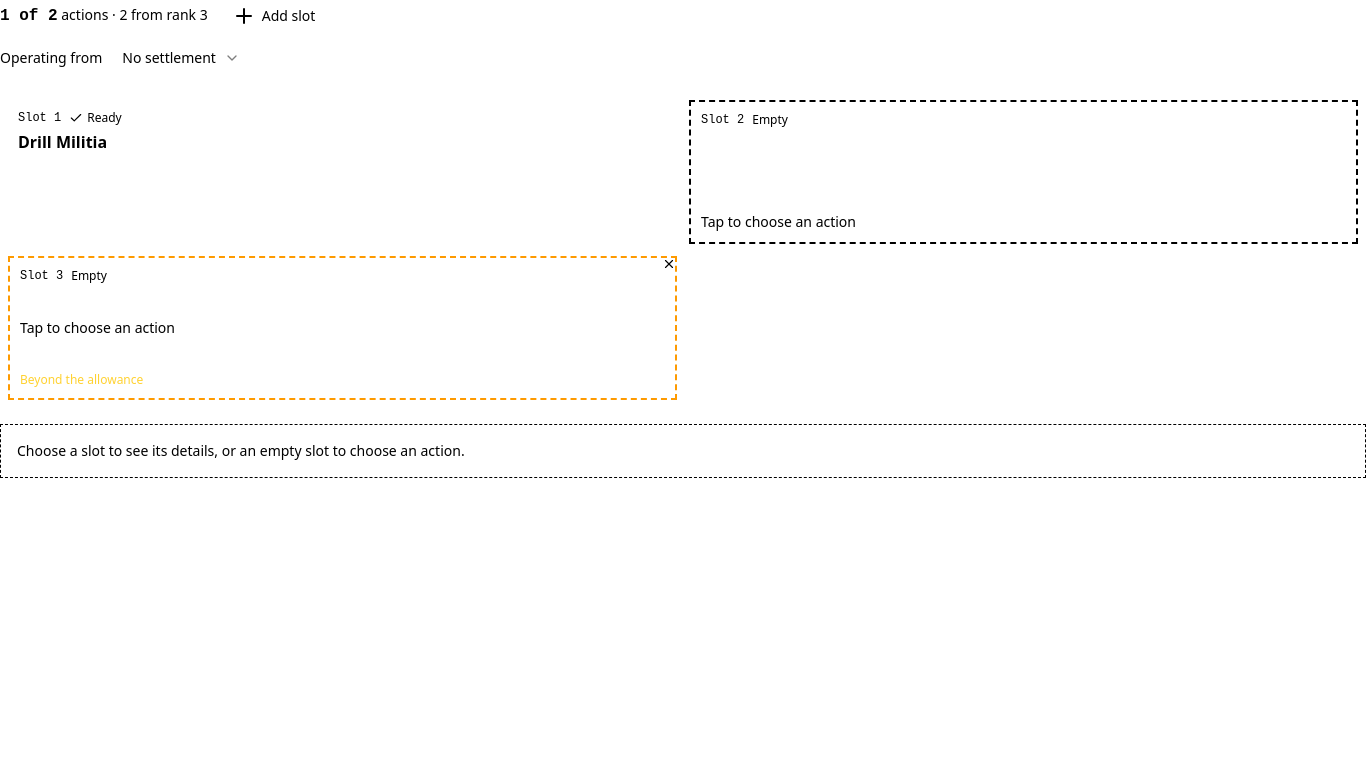
Test case: slot board and picker › [rules.ACT-02.picker] closing the picker with Escape returns focus to the slot that opened it
The width and height of the screenshot is (1366, 768).
Click the button with aria-label "Choose an action for Action Slot 2". click: [719, 120]
box: x1=689 y1=100 x2=1358 y2=244
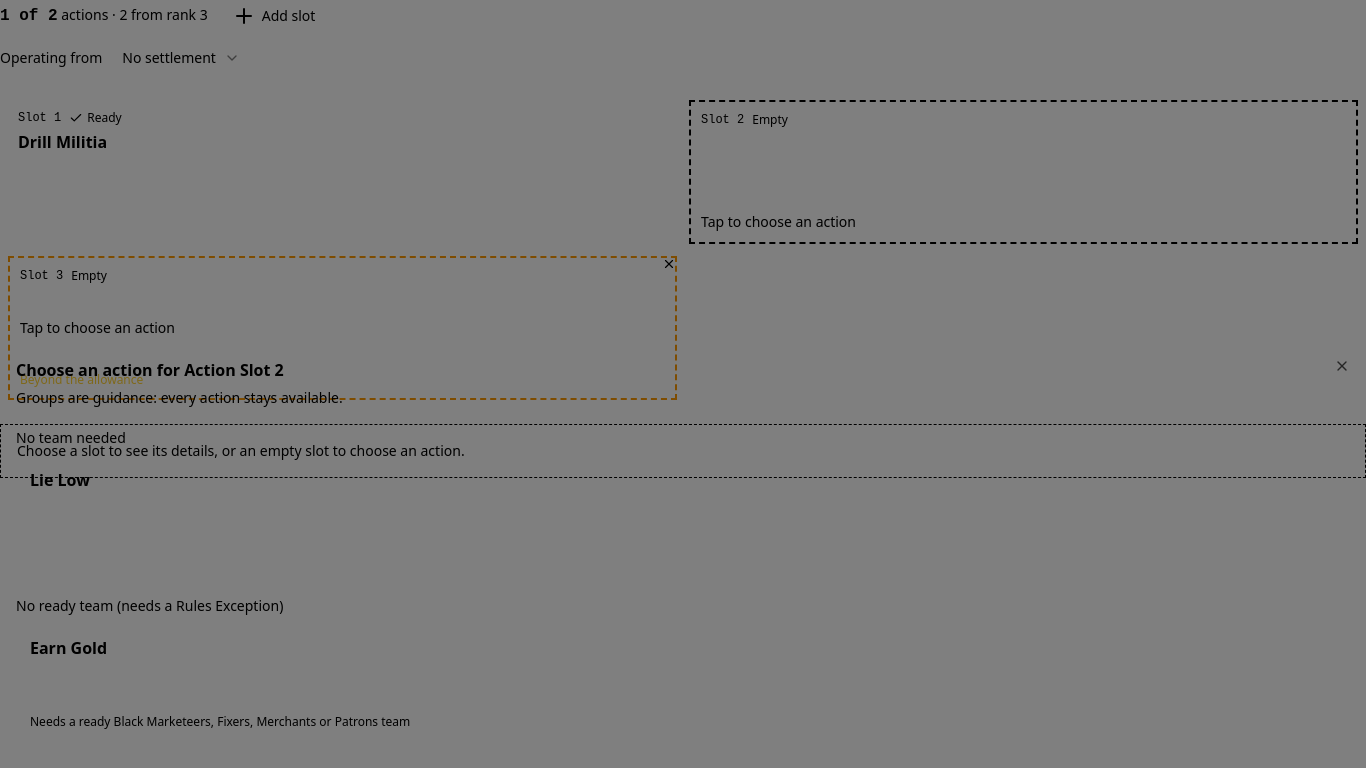
Press Escape in the dialog, box x1=0 y1=342 x2=1365 y2=767
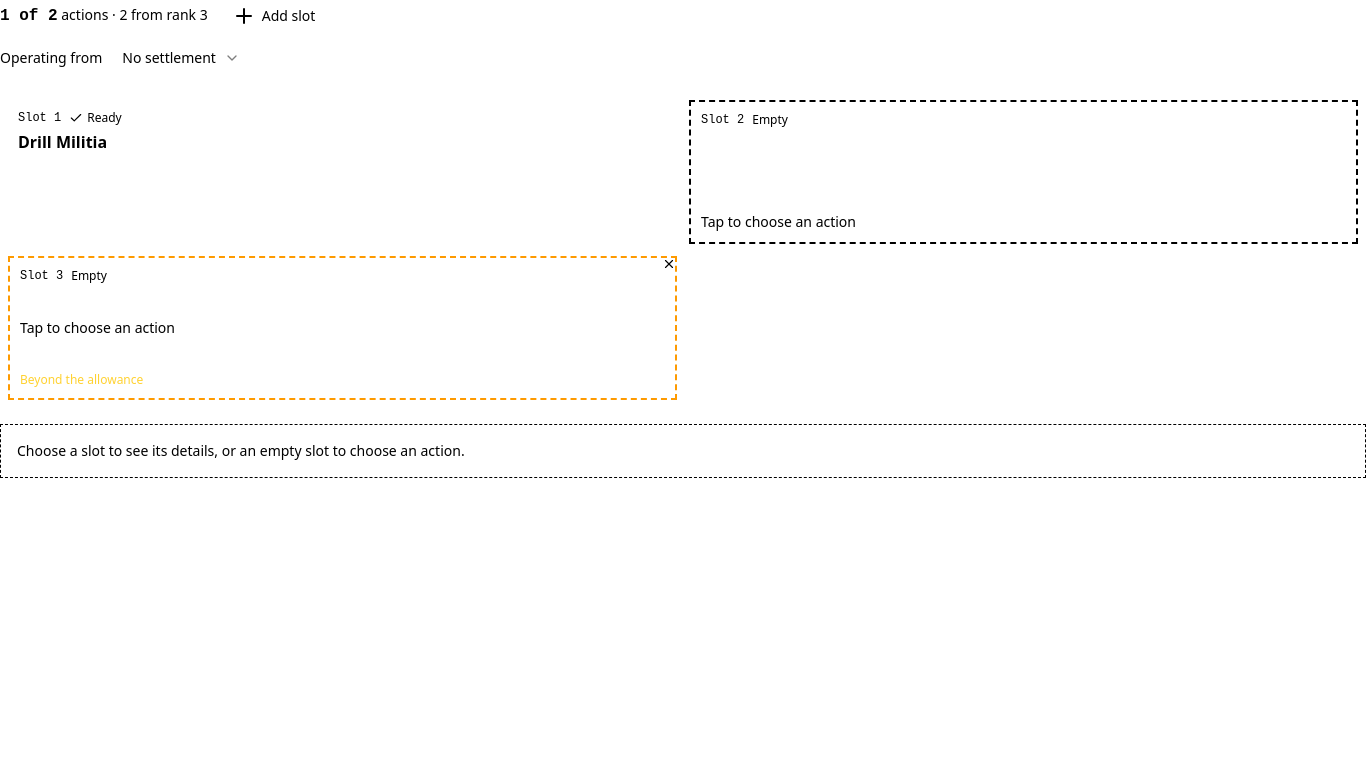
Check: the dialog is gone
